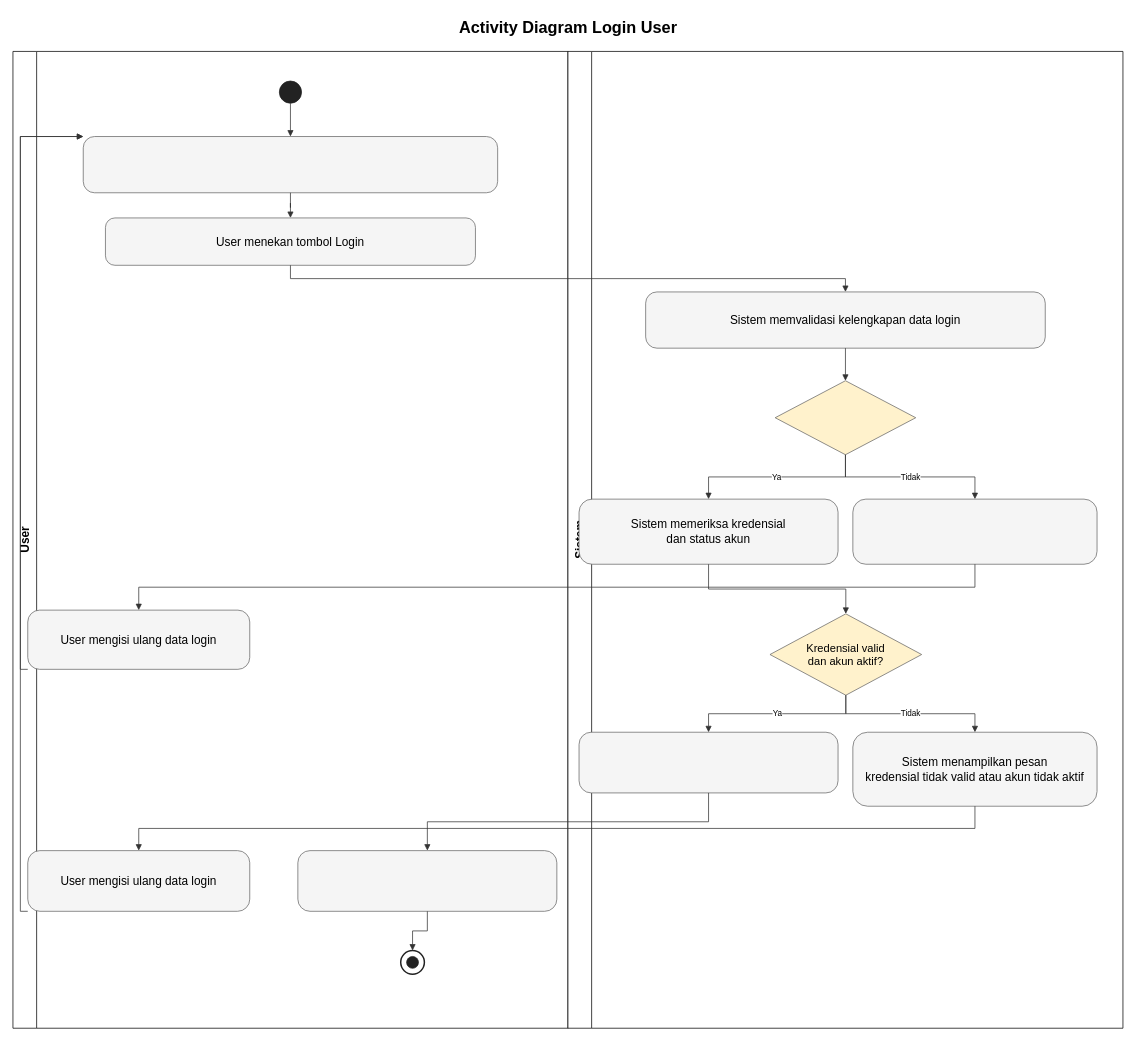
Some shapes in this 1136 by 1041 pixel diagram are drawn without their labels. Each missing label, with the box of its shape:
Input login lengkap?: (774, 380, 916, 455)
Sistem membuat sesi pengguna yang valid: (578, 731, 838, 793)
Sistem menampilkan pesan username/email dan password wajib diisi: (852, 498, 1097, 564)
User diarahkan ke Dashboard sesuai hak akses: (297, 850, 557, 911)
User memasukkan username/email dan password: (83, 136, 498, 193)
